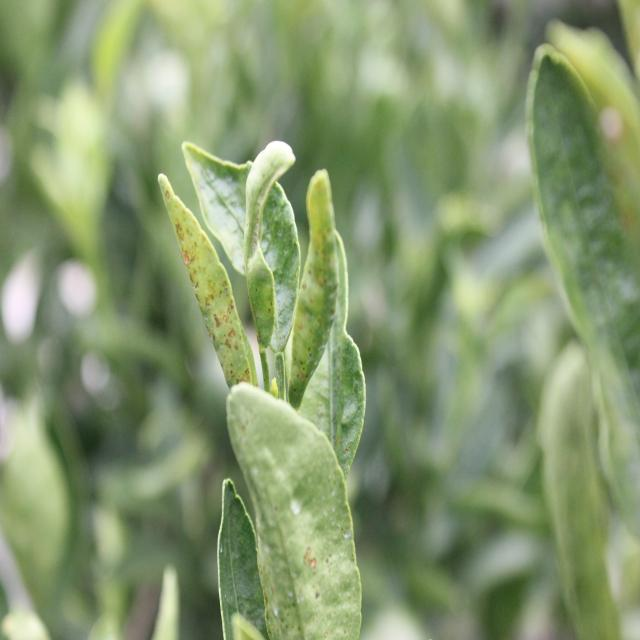canker: (165, 180, 252, 399), (289, 198, 342, 404), (293, 525, 342, 599)
